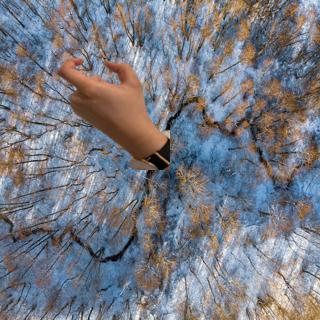HATE: (53, 54, 153, 143)
